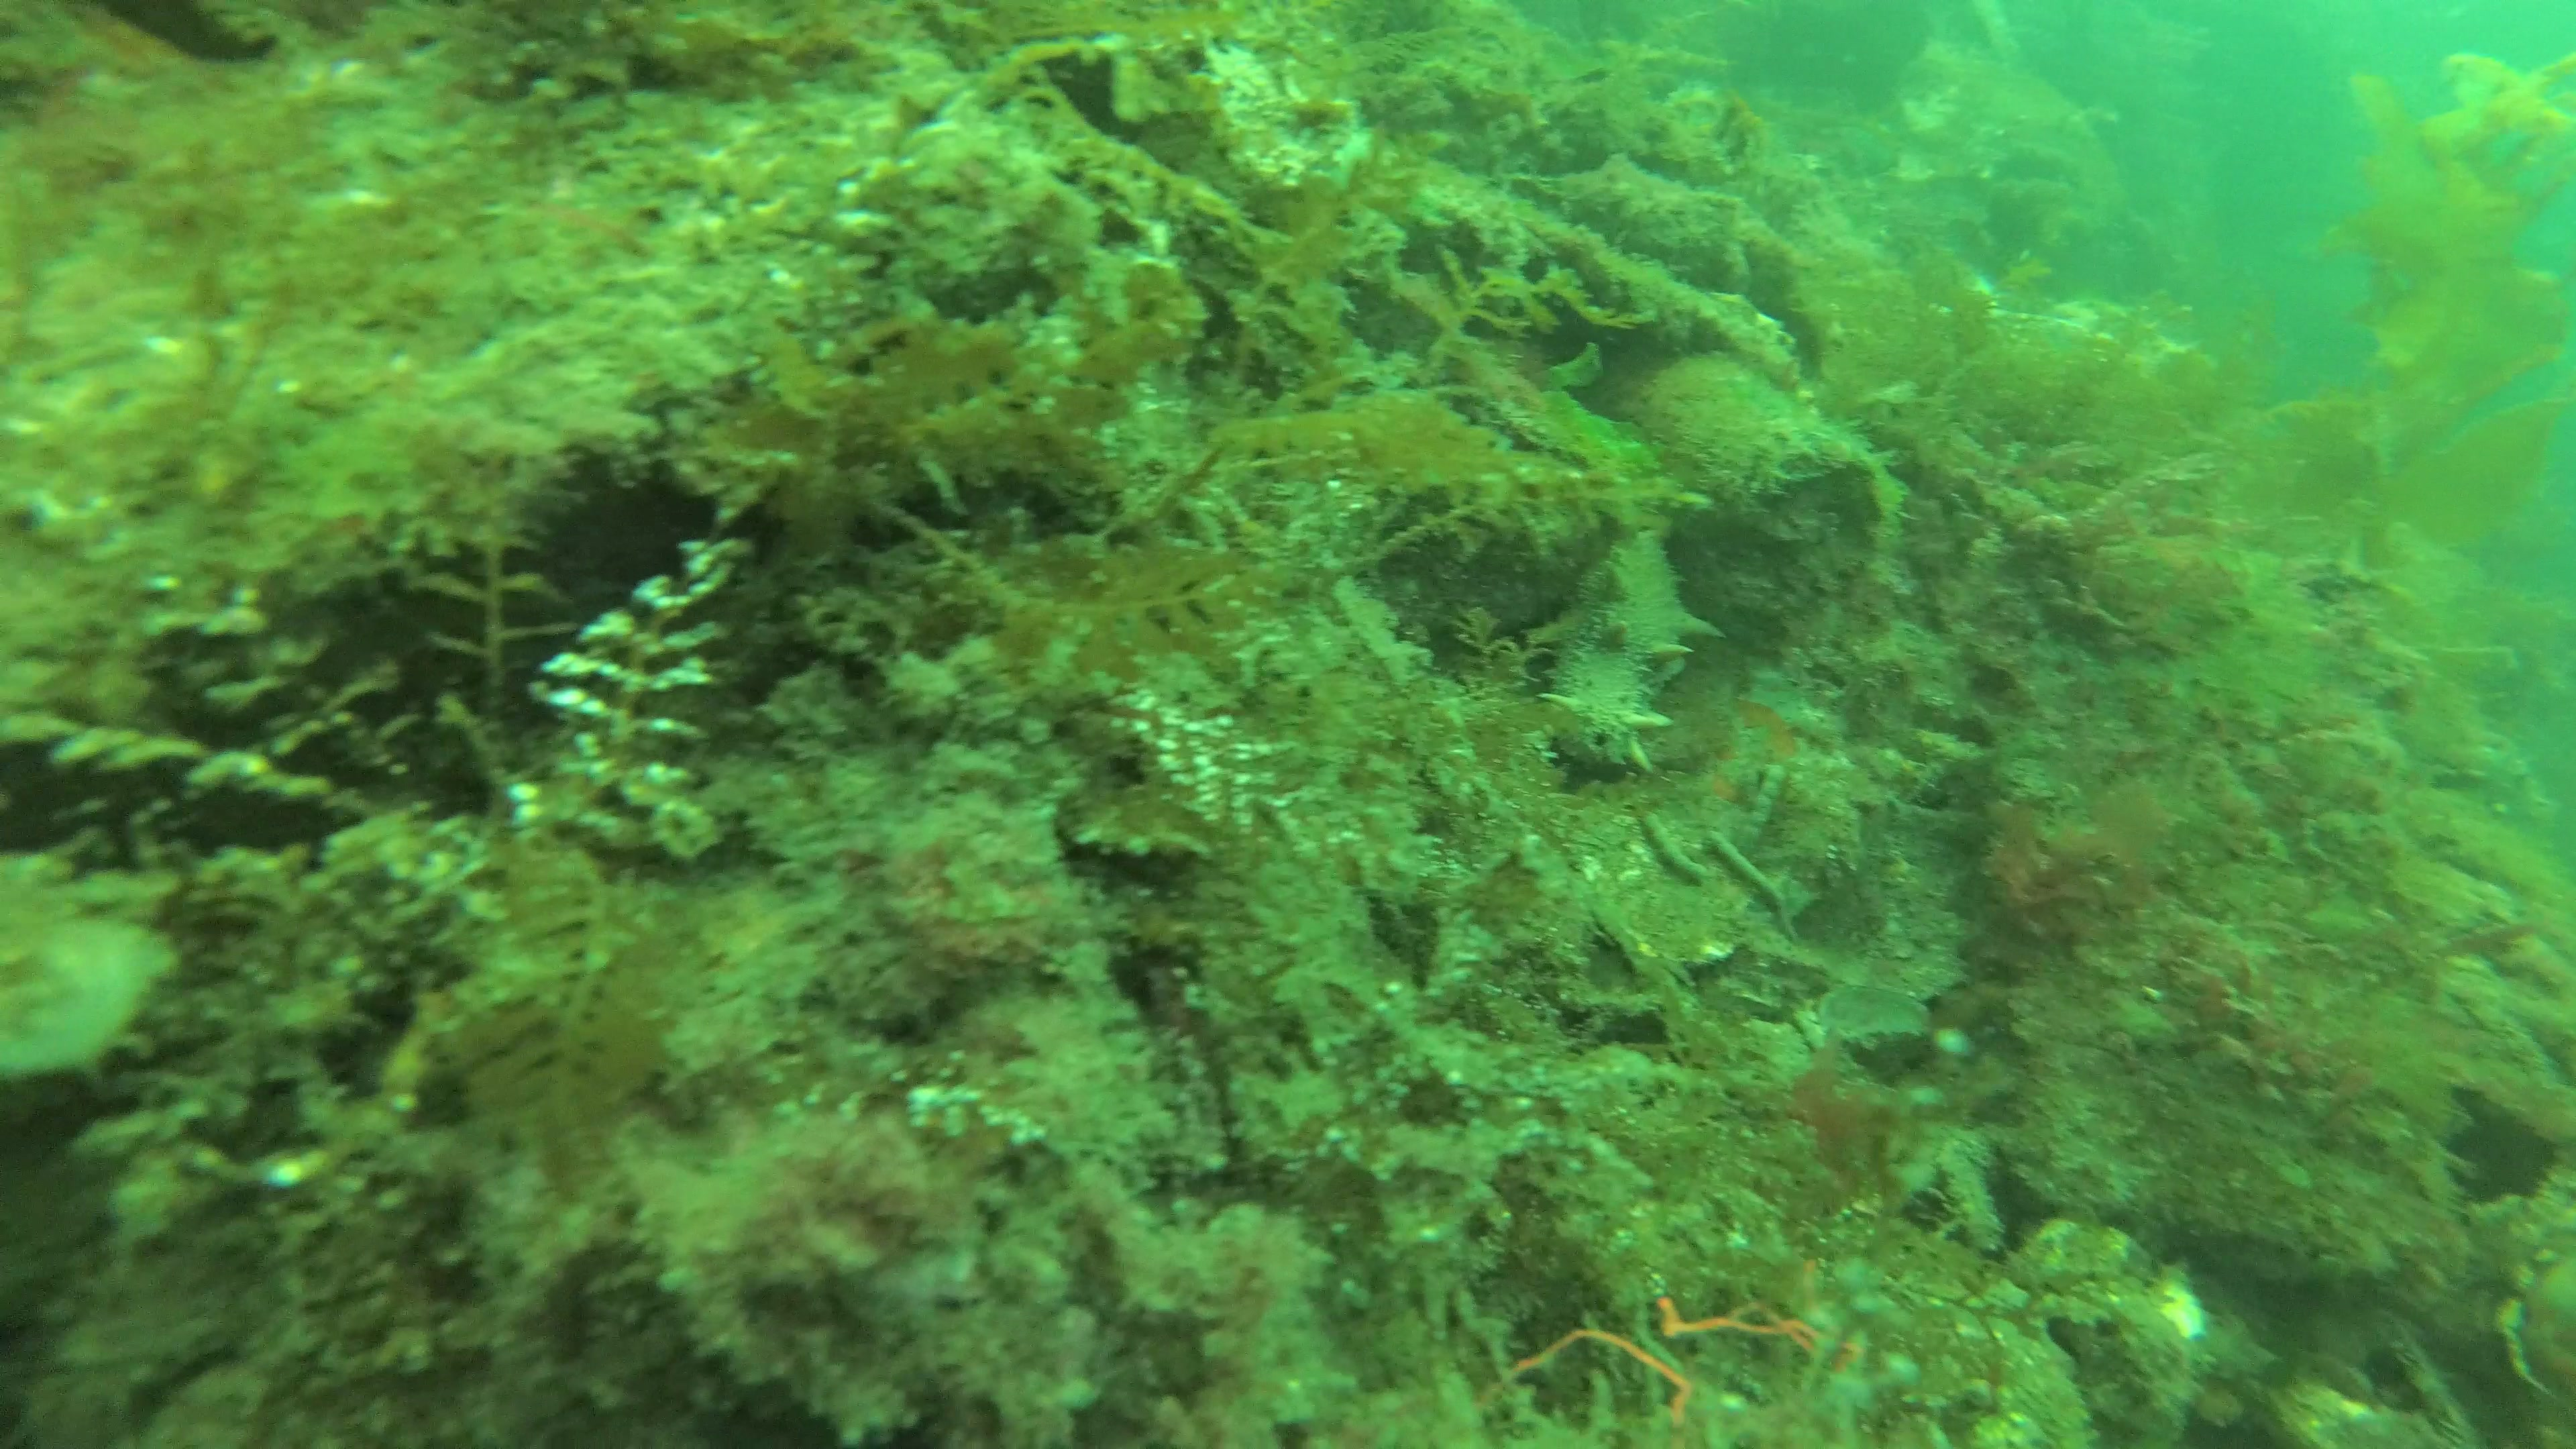holothurian: (1543, 504, 1714, 770)
